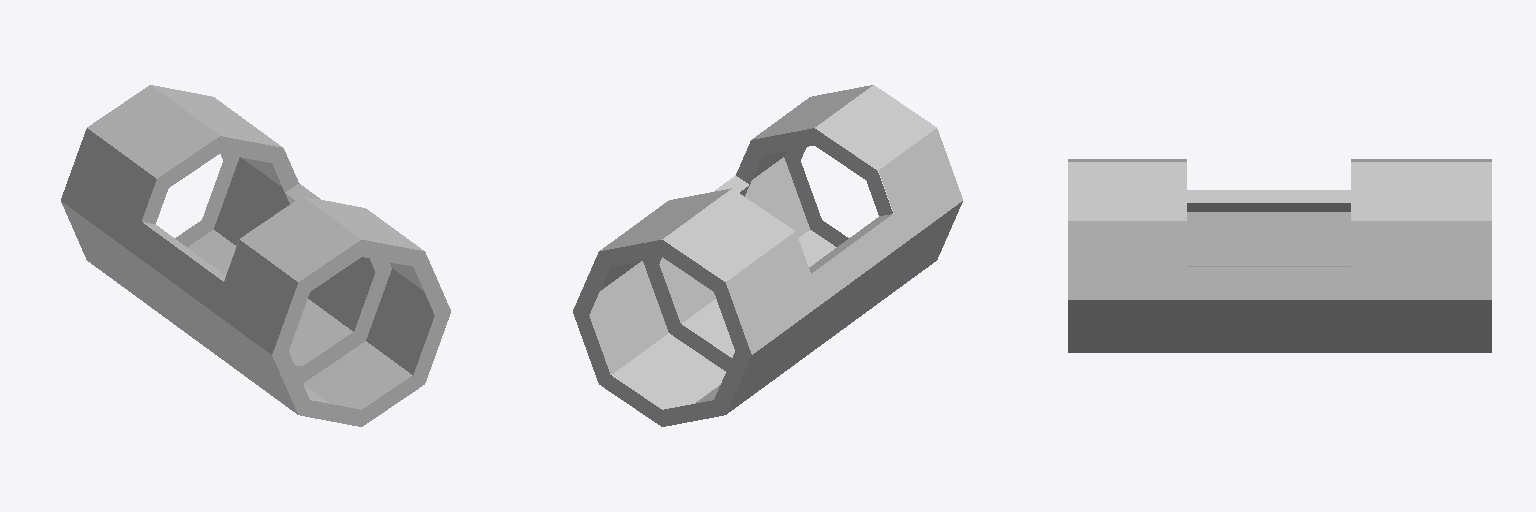
Rendered from pipeOpening.obj.
The picture shows the model from 3 angles: view 1: azimuth 30°, elevation 25°; view 2: azimuth 150°, elevation 25°; view 3: azimuth 270°, elevation 25°; orthographic projection.
Visible parts, largest first — view 1: pipeOpening; view 2: pipeOpening; view 3: pipeOpening.
Boxes of the visible parts, box(x1,y1,x2,y2) form: pipeOpening: box(61, 85, 450, 426); pipeOpening: box(573, 85, 962, 426); pipeOpening: box(1068, 159, 1491, 352).
Size of the model in its own units: 4.9 by 4.9 by 10.